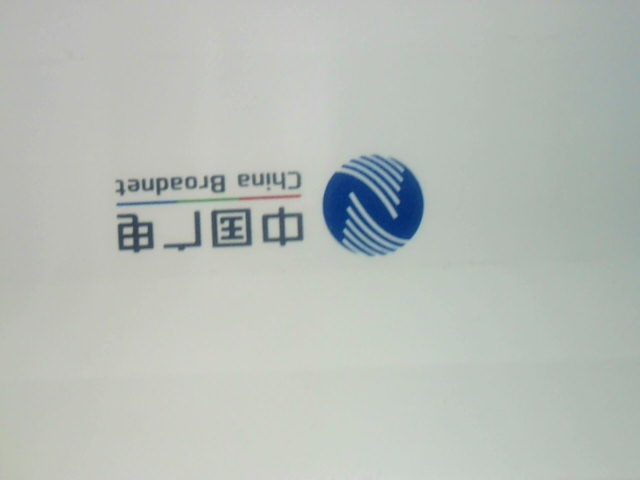AW_ChinaBroadNet: (93, 145, 432, 283)
